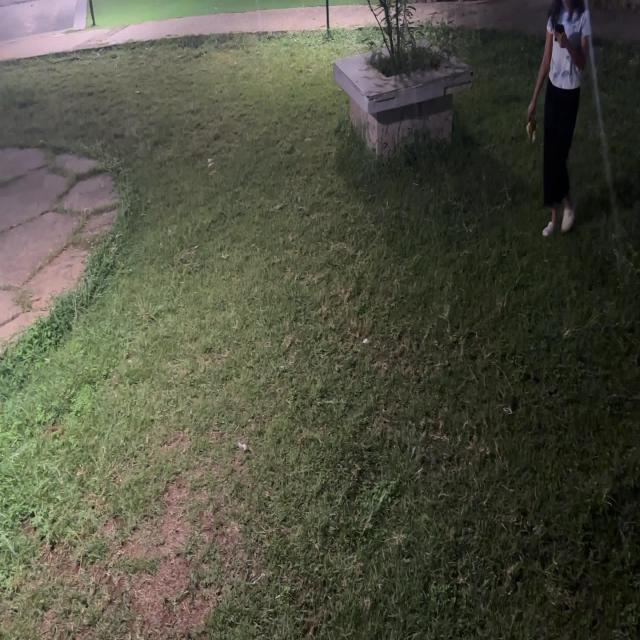human: (518, 0, 596, 246), (520, 111, 540, 147)
